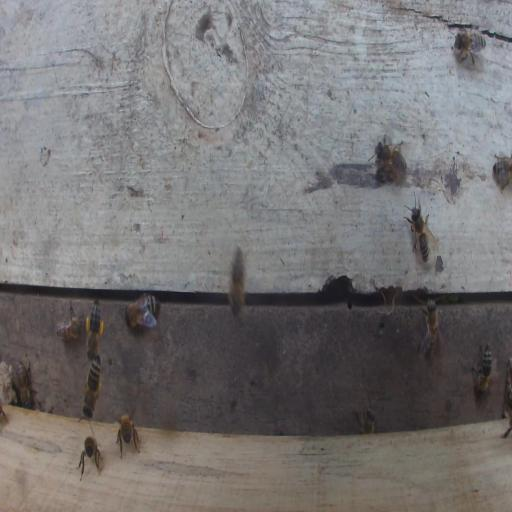nonpollenbee: (405, 192, 437, 265), (374, 134, 407, 183), (417, 299, 443, 360), (228, 245, 246, 322), (123, 292, 160, 329), (451, 27, 487, 65), (115, 408, 140, 458), (471, 339, 492, 397), (54, 301, 83, 343), (83, 355, 102, 419), (77, 434, 101, 480), (12, 359, 33, 407), (492, 153, 512, 193), (355, 407, 377, 434)
pollenbee: (85, 296, 104, 362)
